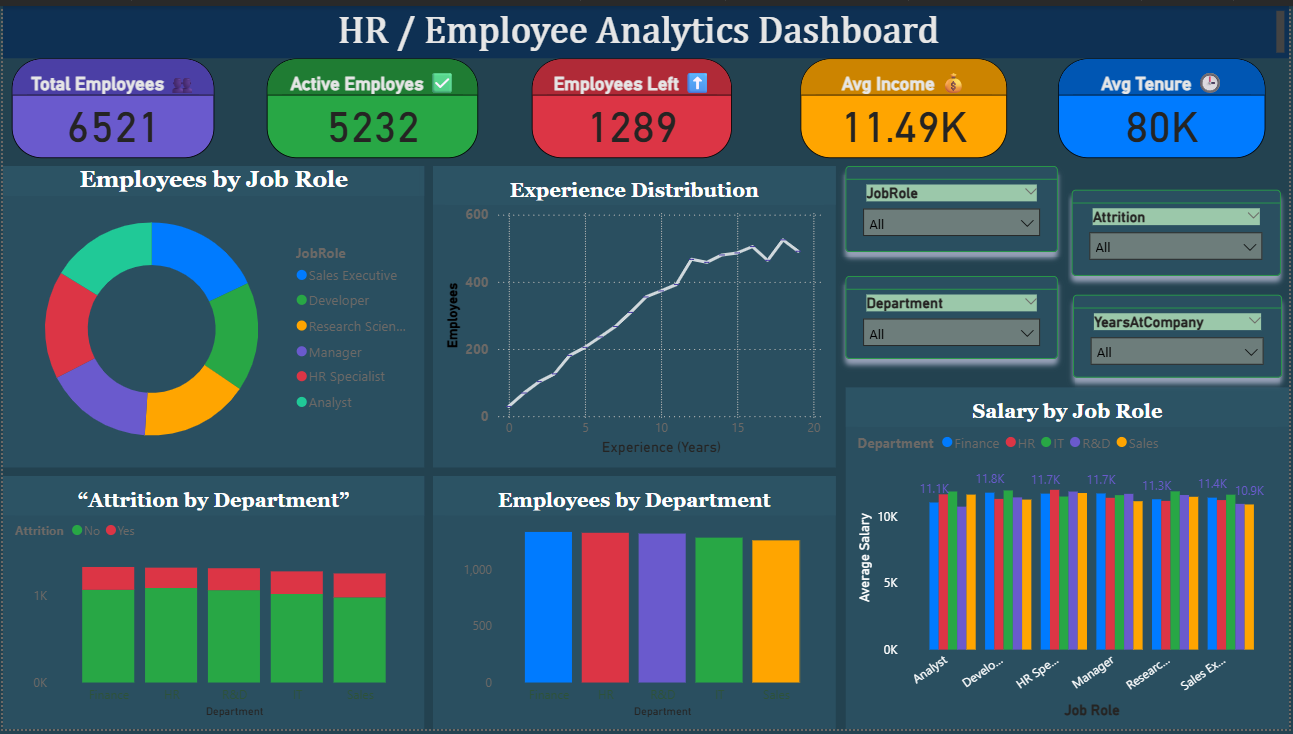

The page's visual inventory and layout, read from the dashboard file:
{"tool":"powerbi","page":{"name":"Page 1","canvas":[1280,720],"ordinal":0},"visuals":[{"type":"textbox","box":[0,0,1280,52.2],"z":0},{"type":"card","title":"Total Employees 👥","fields":{"Values":["CountNonNull(HR_Employee_Analytics_Realistic.EmployeeID)"]},"box":[8.7,52.2,201.5,99.5],"z":1000},{"type":"card","title":"Active Employes ✅","fields":{"Values":["CountNonNull(HR_Employee_Analytics_Realistic.EmployeeID)"]},"box":[262.5,52.2,210.2,99.5],"z":2000},{"type":"card","title":"Avg Income 💰","fields":{"Values":["Avg(HR_Employee_Analytics_Realistic.MonthlyIncome)"]},"box":[793.6,52.2,205.3,99.5],"z":3000},{"type":"card","title":"Employees Left ⬆️","fields":{"Values":["CountNonNull(HR_Employee_Analytics_Realistic.EmployeeID)"]},"box":[526.2,52.2,199,99.5],"z":4000},{"type":"card","title":"Avg Tenure 🕒","fields":{"Values":["Sum(HR_Employee_Analytics_Realistic.YearsAtCompany)"]},"box":[1049.9,52.2,206.5,99.5],"z":5000},{"type":"clusteredColumnChart","title":"Employees by Department","fields":{"Category":["HR_Employee_Analytics_Realistic.Department"],"Y":["Count(HR_Employee_Analytics_Realistic.EmployeeID)"]},"box":[427.9,467.7,400.6,252.5],"z":6000},{"type":"columnChart","title":"“Attrition by Department”","fields":{"Category":["HR_Employee_Analytics_Realistic.Department"],"Y":["CountNonNull(HR_Employee_Analytics_Realistic.EmployeeID)"],"Series":["HR_Employee_Analytics_Realistic.Attrition"]},"box":[0,467.7,419.2,252.5],"z":7000},{"type":"lineChart","title":"Experience Distribution","fields":{"Category":["HR_Employee_Analytics_Realistic.YearsAtCompany"],"Y":["CountNonNull(HR_Employee_Analytics_Realistic.EmployeeID)"]},"box":[427.9,159.2,400.6,299.8],"z":8000},{"type":"donutChart","title":"Employees by Job Role","fields":{"Category":["HR_Employee_Analytics_Realistic.JobRole"],"Y":["CountNonNull(HR_Employee_Analytics_Realistic.EmployeeID)"]},"box":[0,159.2,419.2,299.8],"z":9000},{"type":"clusteredColumnChart","title":"Salary by Job Role","fields":{"Category":["HR_Employee_Analytics_Realistic.JobRole"],"Y":["Avg(HR_Employee_Analytics_Realistic.MonthlyIncome)"],"Series":["HR_Employee_Analytics_Realistic.Department"]},"box":[838.4,379.1,441.6,340.8],"z":10000},{"type":"slicer","fields":{"Values":["HR_Employee_Analytics_Realistic.Department"]},"box":[838.4,268.7,211.5,82.1],"z":11000},{"type":"slicer","fields":{"Values":["HR_Employee_Analytics_Realistic.JobRole"]},"box":[838.4,159.2,211.5,85.8],"z":12000},{"type":"slicer","fields":{"Values":["HR_Employee_Analytics_Realistic.Attrition"]},"box":[1063.6,182.9,207.7,85.8],"z":13000},{"type":"slicer","fields":{"Values":["HR_Employee_Analytics_Realistic.YearsAtCompany"]},"box":[1064.8,287.4,207.7,82.1],"z":14000}]}

Visuals, with their boxes in screenshot pixels (x1, y1, x2, y2), scaled from the page's 1280x720 canvas onto the 1293x734 screenshot:
textbox: box(0, 0, 1292, 53)
"Total Employees 👥" card: box(9, 53, 212, 155)
"Active Employes ✅" card: box(265, 53, 478, 155)
"Avg Income 💰" card: box(802, 53, 1009, 155)
"Employees Left ⬆️" card: box(532, 53, 733, 155)
"Avg Tenure 🕒" card: box(1061, 53, 1269, 155)
"Employees by Department" clusteredColumnChart: box(432, 477, 837, 733)
"“Attrition by Department”" columnChart: box(0, 477, 423, 733)
"Experience Distribution" lineChart: box(432, 162, 837, 468)
"Employees by Job Role" donutChart: box(0, 162, 423, 468)
"Salary by Job Role" clusteredColumnChart: box(847, 386, 1292, 733)
slicer - HR_Employee_Analytics_Realistic.Department: box(847, 274, 1061, 358)
slicer - HR_Employee_Analytics_Realistic.JobRole: box(847, 162, 1061, 250)
slicer - HR_Employee_Analytics_Realistic.Attrition: box(1074, 186, 1284, 274)
slicer - HR_Employee_Analytics_Realistic.YearsAtCompany: box(1076, 293, 1285, 377)
